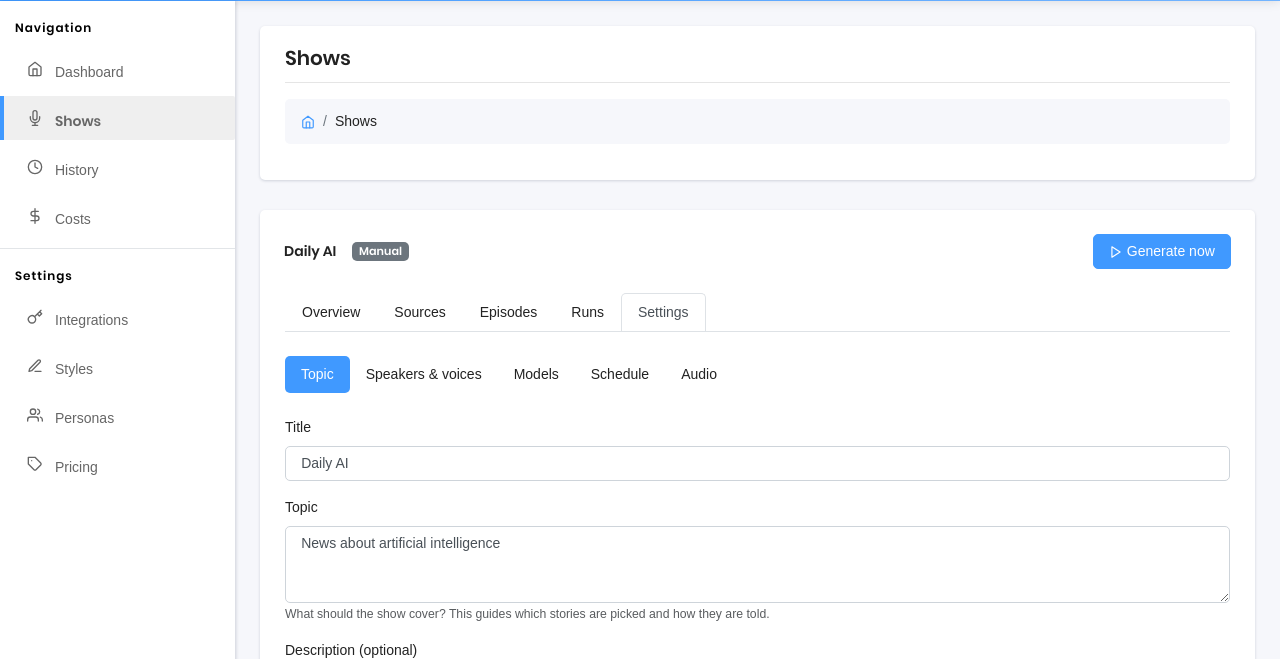
Test: show detail page › settings › mirrors the API’s validation errors on the field and opens that section
The image size is (1280, 659).
Check: the field labelled "Title" is shown, box [285,446,1230,481]
Click the button "Schedule".
click(620, 374)  # box [575,356,665,393]
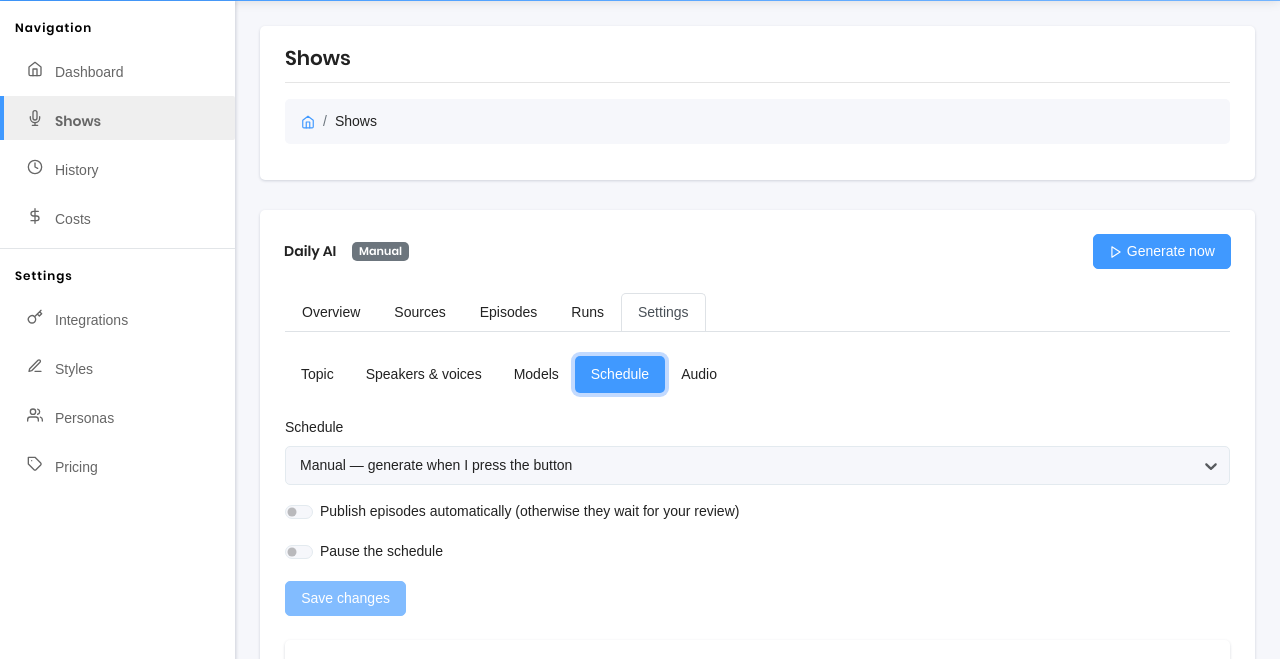
Click the switch labelled "Publish episodes automatically".
click(299, 512)  # box [285,504,313,518]
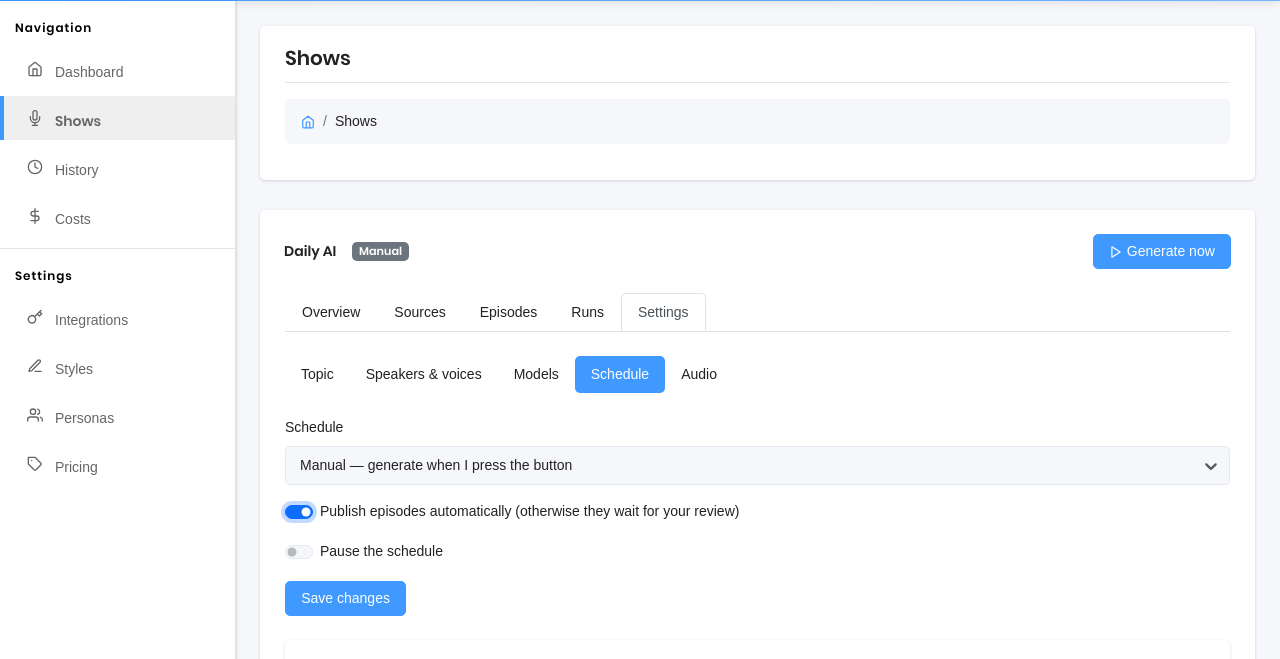
Click the button "Save changes".
click(346, 598)  # box [285,581,406,616]
(page scrolled)
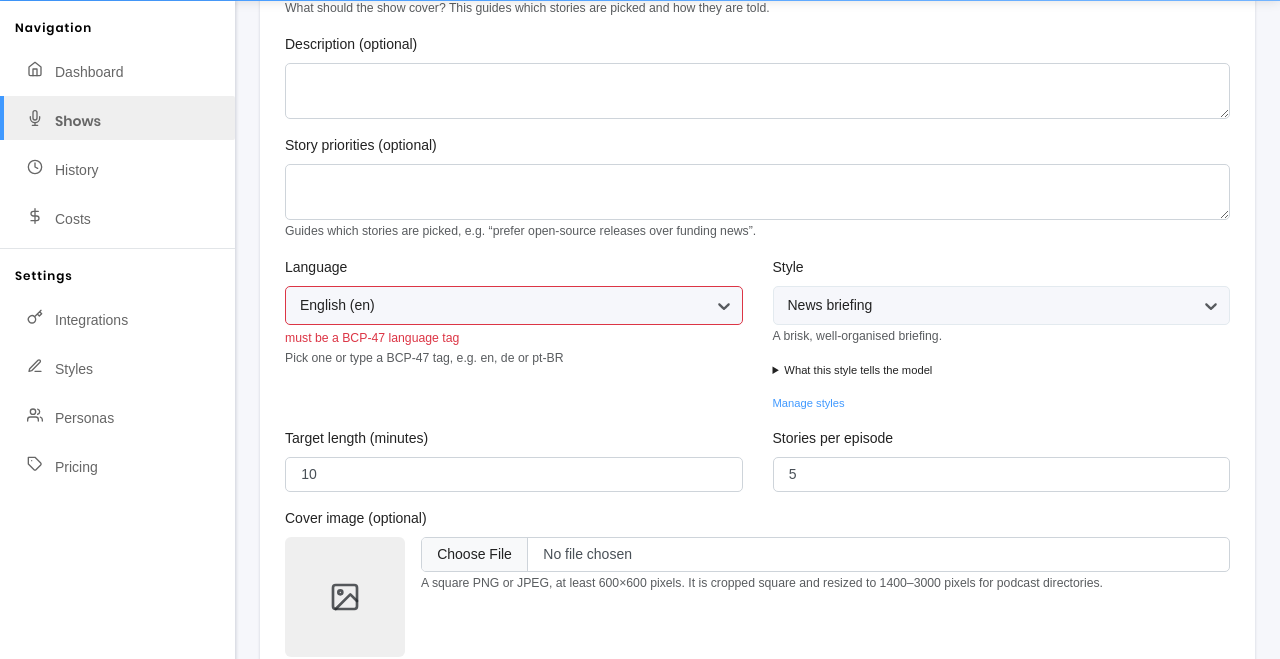
Check: the text "must be a BCP-47 language tag" is shown, box [285,331,459,345]
Check: the dropdown labelled "Language" is shown, box [300,295,304,316]
